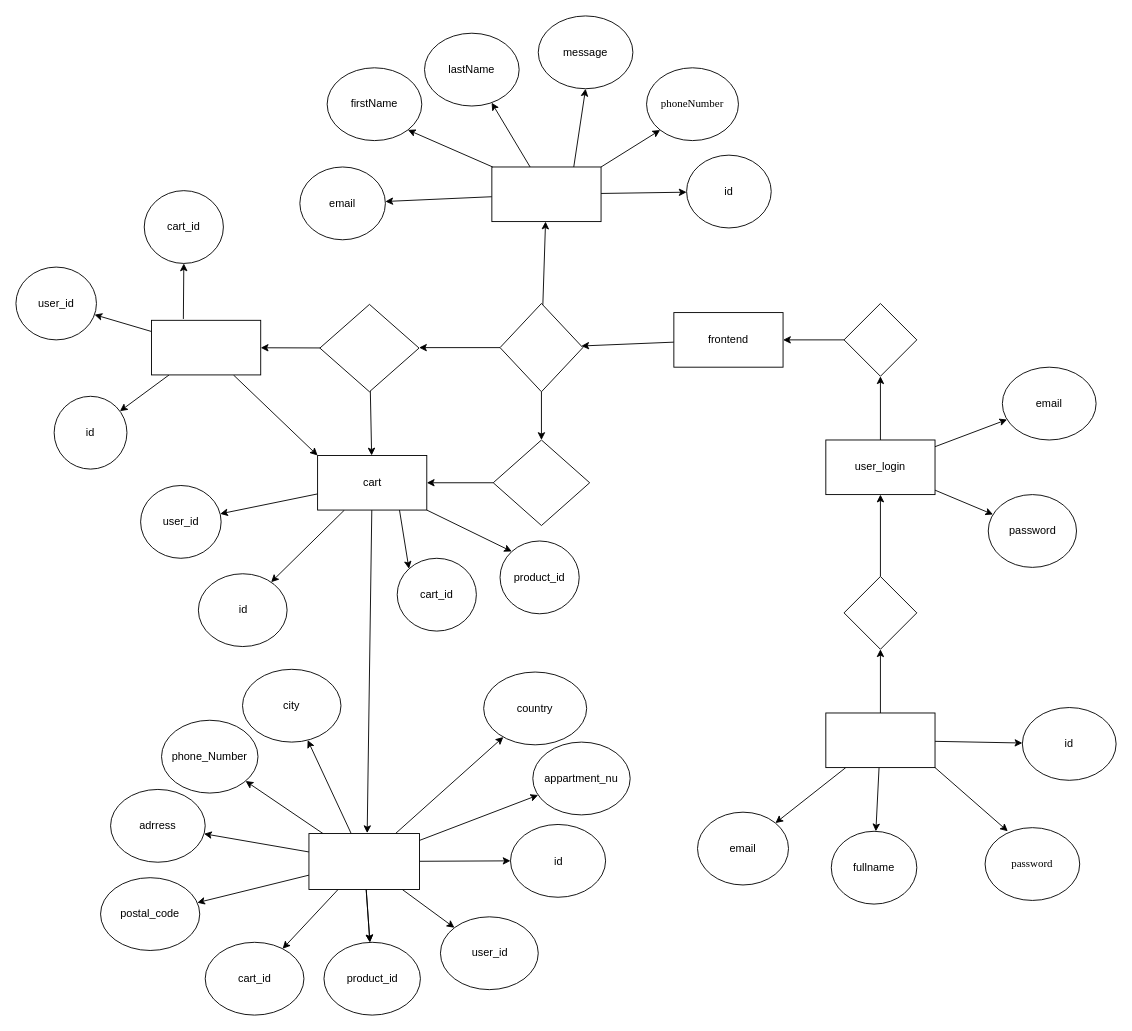
Image size: 1132x1031. Some labels were removed from this diagram. The shapes that lost their labels are listed below. From the top down, each one's centre as x and y in pixels, then its label:
the point at 546,194: contact_us
the point at 206,347: wishlist
the point at 369,347: category
the point at 541,347: has
the point at 880,339: handle
the point at 541,482: allProduct
the point at 880,612: go
the point at 880,740: usersignup
the point at 364,861: checkout
